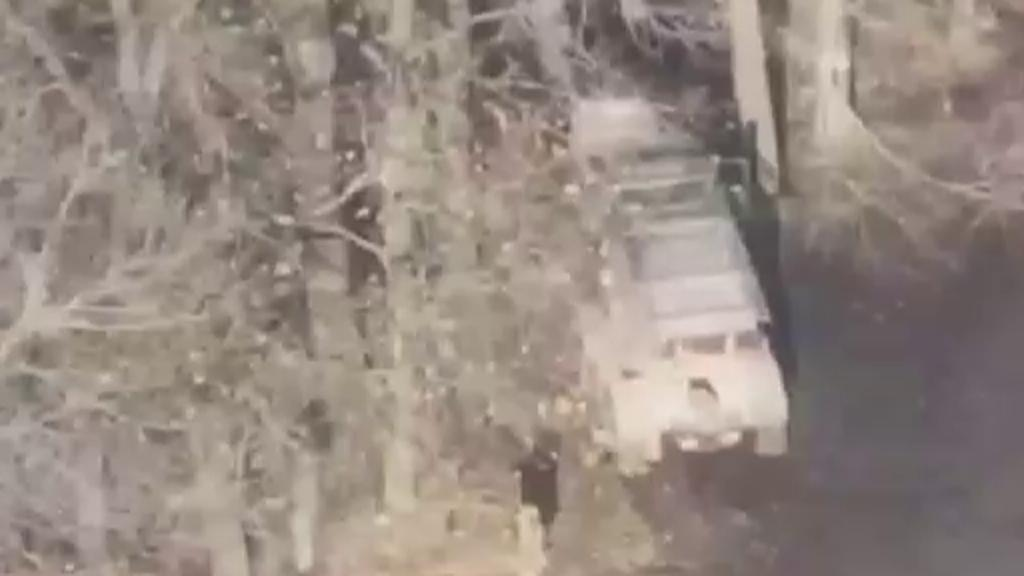MLRS: (526, 88, 794, 462)
